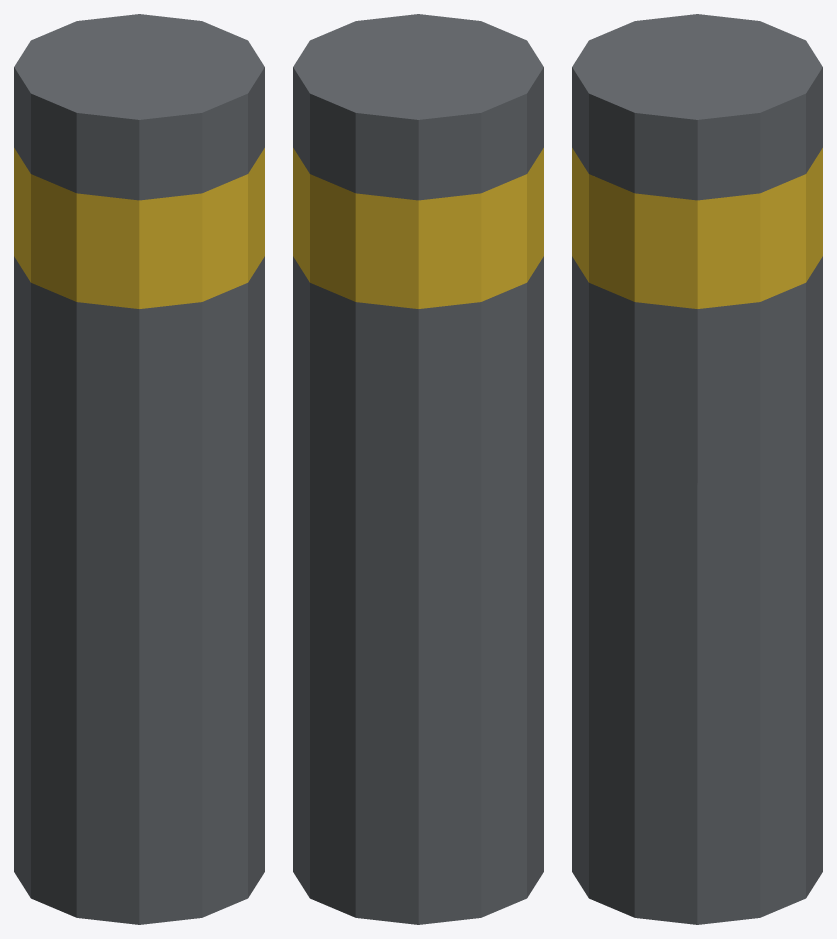
The model's file is Pole3.fbx.
The picture shows the model from 3 angles, left to right: view 1: azimuth 30°, elevation 25°; view 2: azimuth 150°, elevation 25°; view 3: azimuth 270°, elevation 25°; orthographic projection.
Parts seen in each view (by area): view 1: Cylinder.004; view 2: Cylinder.004; view 3: Cylinder.004.
Boxes of the visible parts, box(x1,y1,x2,y2) form: Cylinder.004: box(14, 14, 264, 924); Cylinder.004: box(293, 14, 543, 924); Cylinder.004: box(572, 14, 822, 924).
Size of the model in its own units: 24 by 85 by 24.
